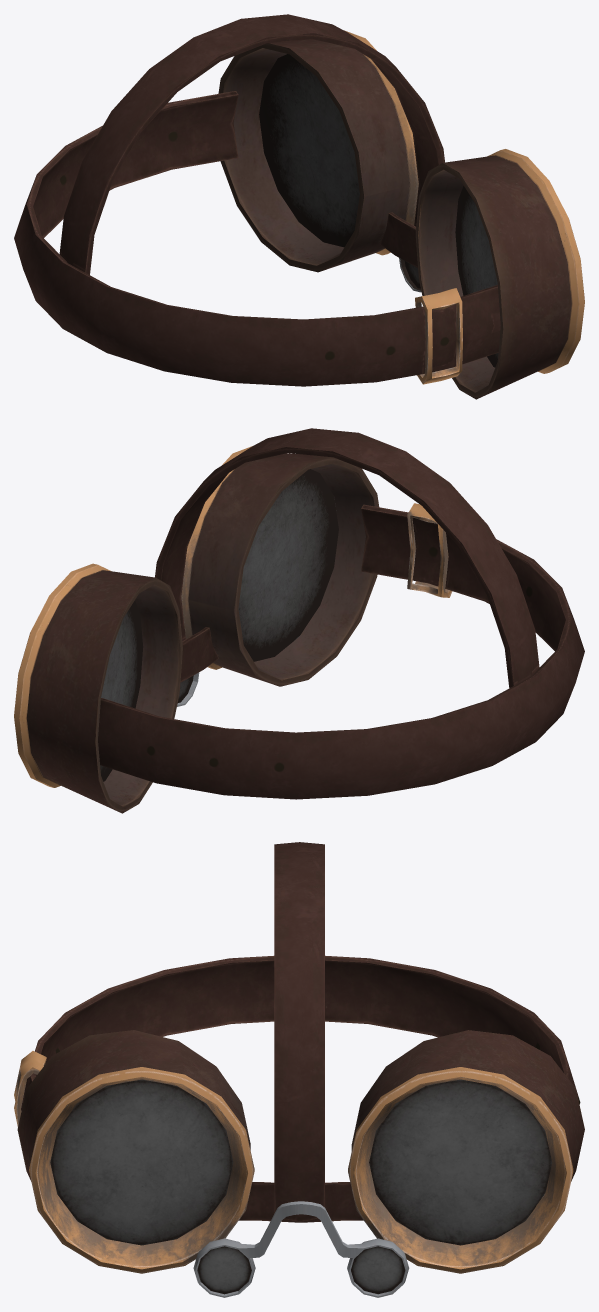
3 renders of one model, top to bottom at view 1: azimuth 30°, elevation 25°; view 2: azimuth 150°, elevation 25°; view 3: azimuth 270°, elevation 25°, orthographic.
Parts seen in each view (by area): view 1: glasses_0; view 2: glasses_0; view 3: glasses_0.
Boxes of the visible parts, x1,y1,x2,y2 form: glasses_0: [14, 14, 584, 399]; glasses_0: [14, 428, 584, 813]; glasses_0: [14, 842, 584, 1297].
Size of the model in its own units: 1.76 by 1.35 by 2.07.
Materials: 1 (1 with a texture image).
